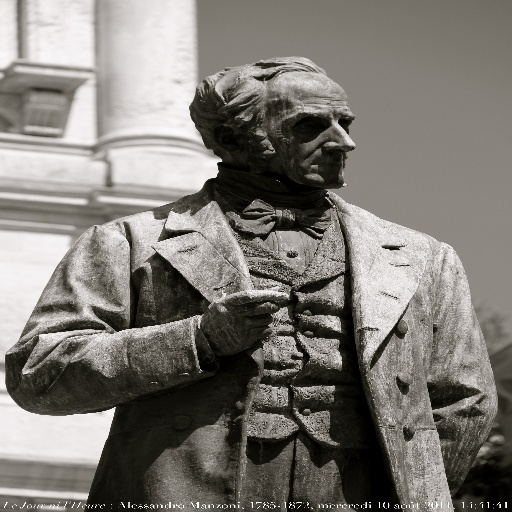hand: (188, 280, 290, 363)
